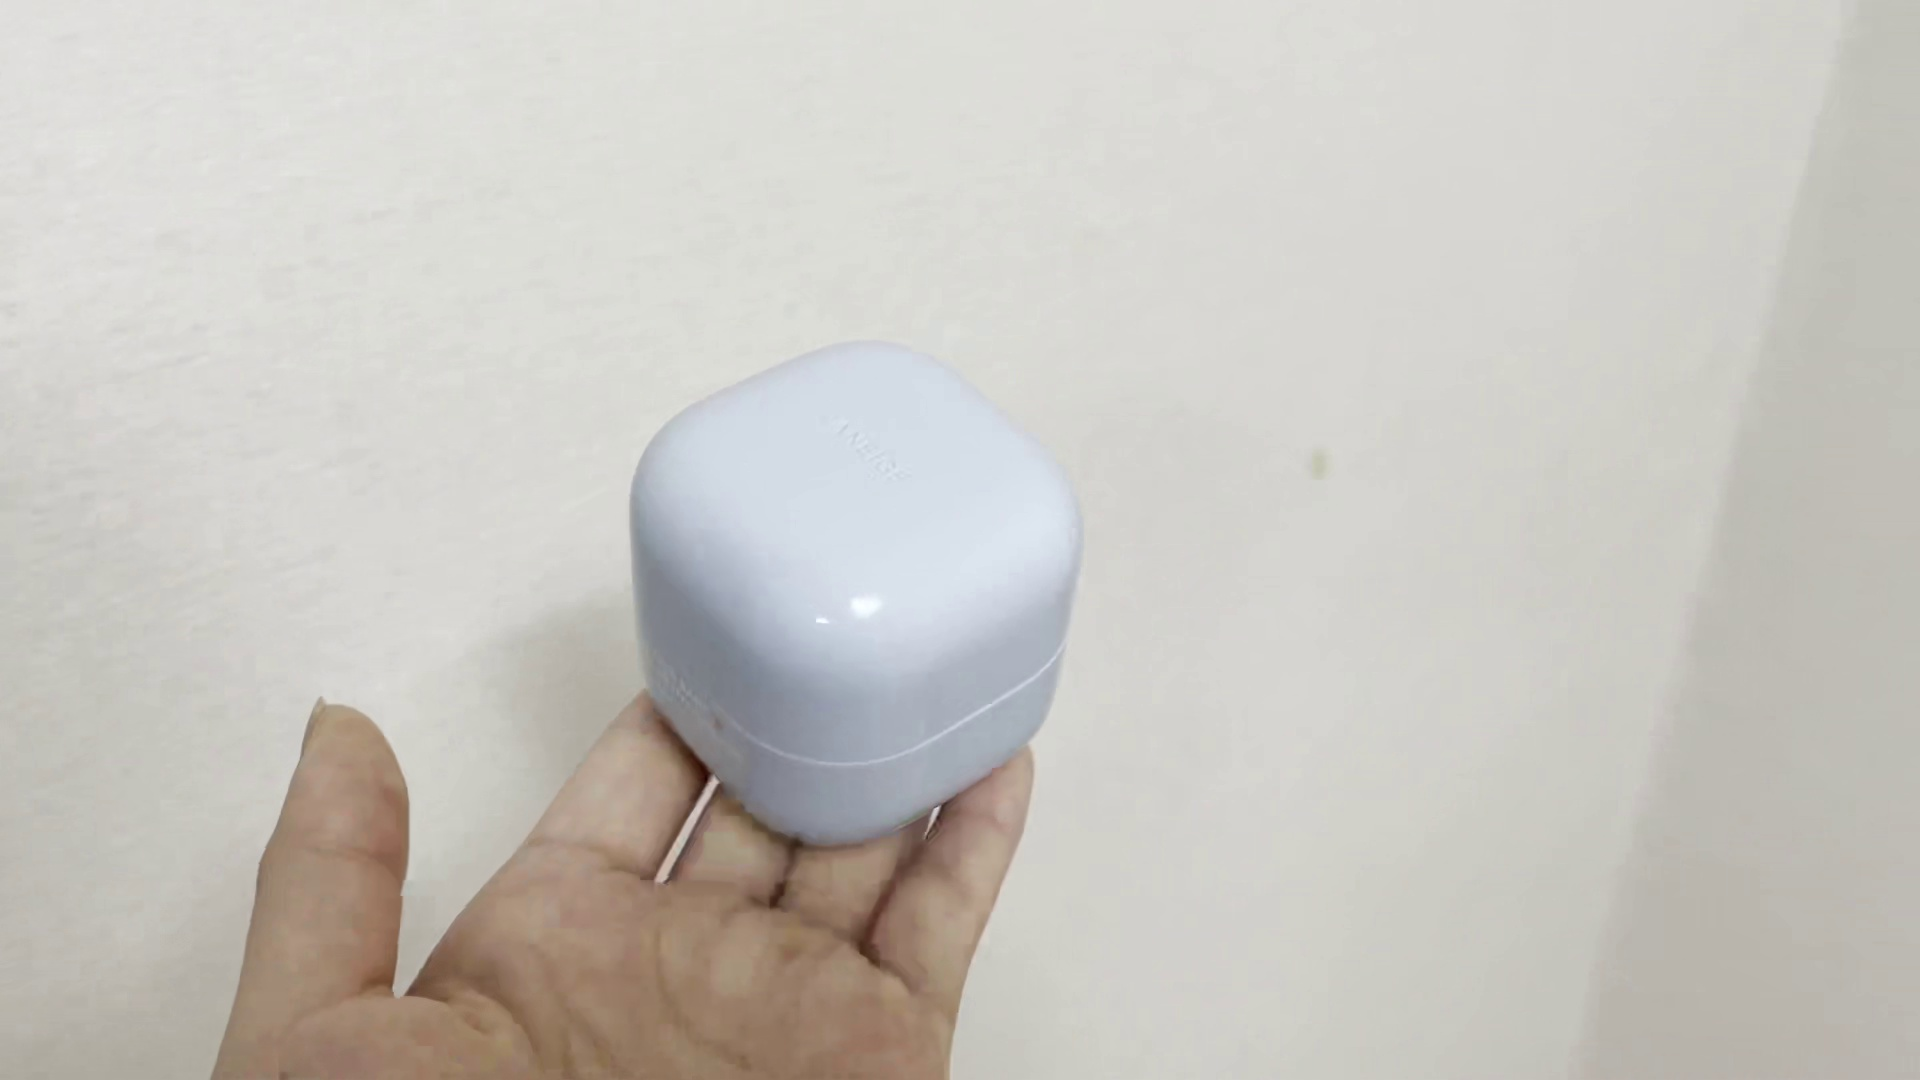cream: (628, 343, 1081, 839)
